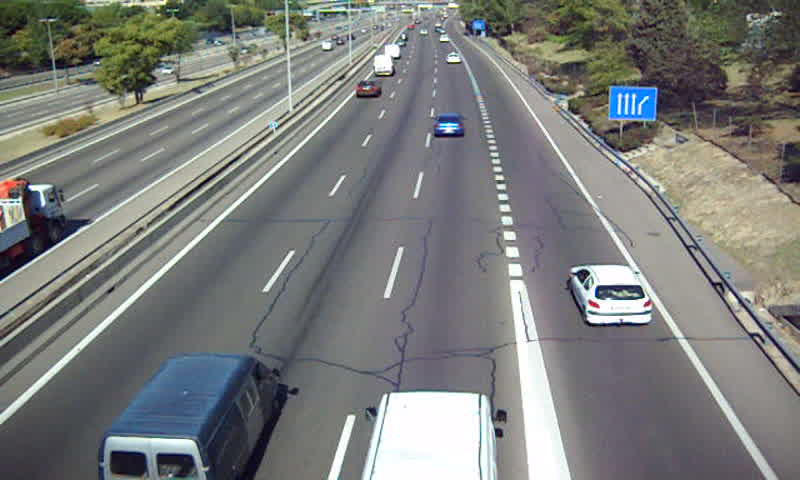car: (568, 263, 654, 327), (431, 112, 467, 138), (354, 80, 381, 98)
van: (97, 356, 282, 480), (359, 391, 497, 480), (372, 54, 395, 76)
